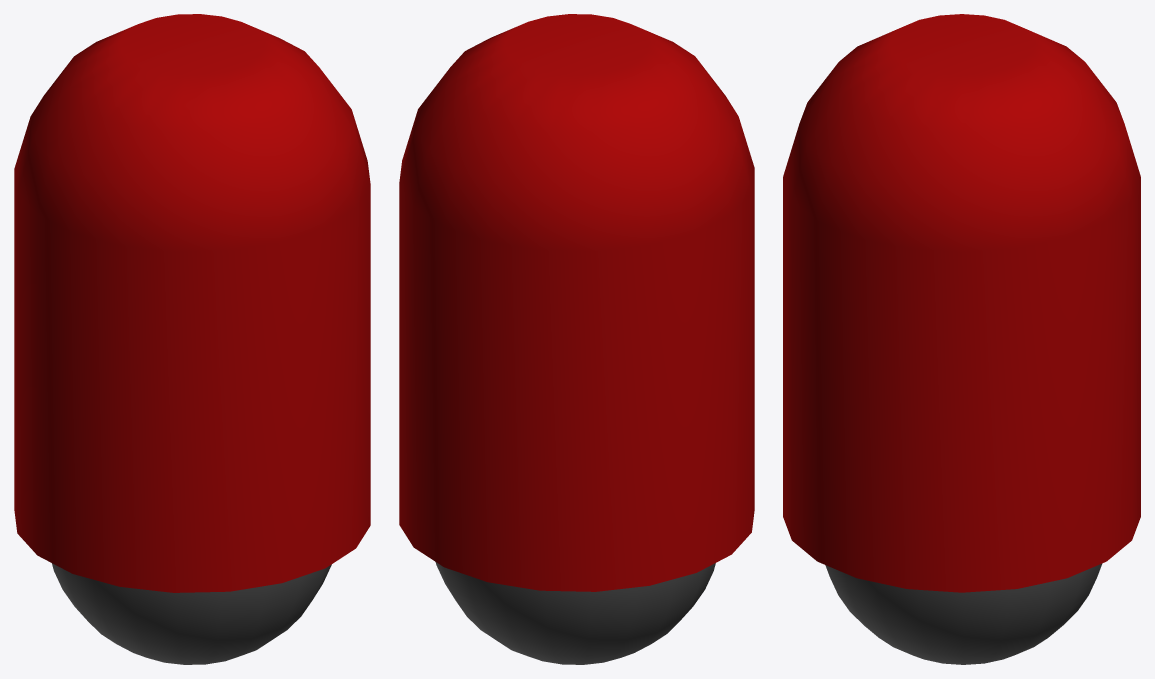
File: bot_body.fbx
The picture shows the model from 3 angles, left to right: view 1: azimuth 30°, elevation 25°; view 2: azimuth 150°, elevation 25°; view 3: azimuth 270°, elevation 25°; orthographic projection.
Parts seen in each view (by area): view 1: pCylinder1; view 2: pCylinder1; view 3: pCylinder1.
Boxes of the visible parts, x1,y1,x2,y2 form: pCylinder1: (14,14,370,664); pCylinder1: (399,14,754,664); pCylinder1: (783,14,1140,664).
Size of the model in its own units: 1.99 by 3.73 by 1.99.
